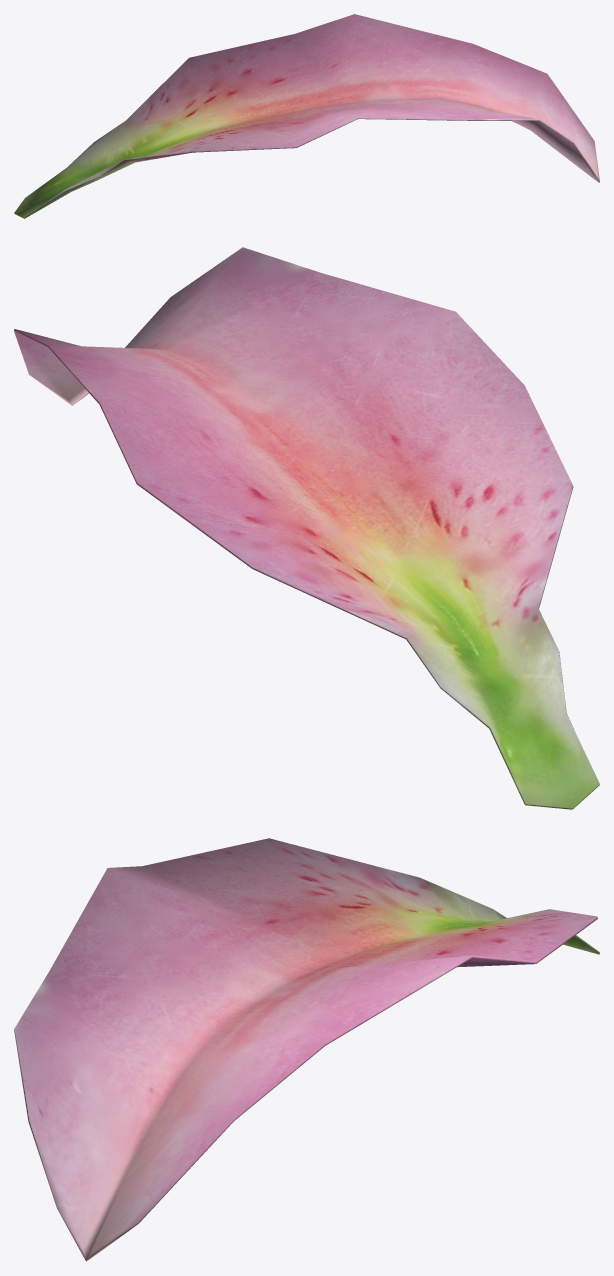
File: Lily_PetalB_3.gltf
The picture shows the model from 3 angles, top to bottom: view 1: azimuth 30°, elevation 25°; view 2: azimuth 150°, elevation 25°; view 3: azimuth 270°, elevation 25°; orthographic projection. The views are drawn at different scales.
Visible parts, largest first — view 1: PetalB.003; view 2: PetalB.003; view 3: PetalB.003.
Part boxes in pixels (left/top/right/bottom): PetalB.003: left=14, top=14, right=599, bottom=218; PetalB.003: left=14, top=247, right=599, bottom=809; PetalB.003: left=14, top=838, right=599, bottom=1261.
Bounding box in the file's own units: 4.13 × 1.27 × 2.72.
Materials: 1 (1 with a texture image).
